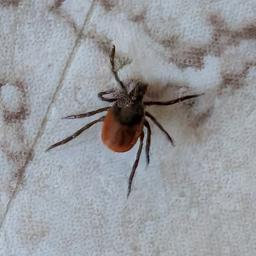Ixodes scapularis: (103, 39, 218, 170)
